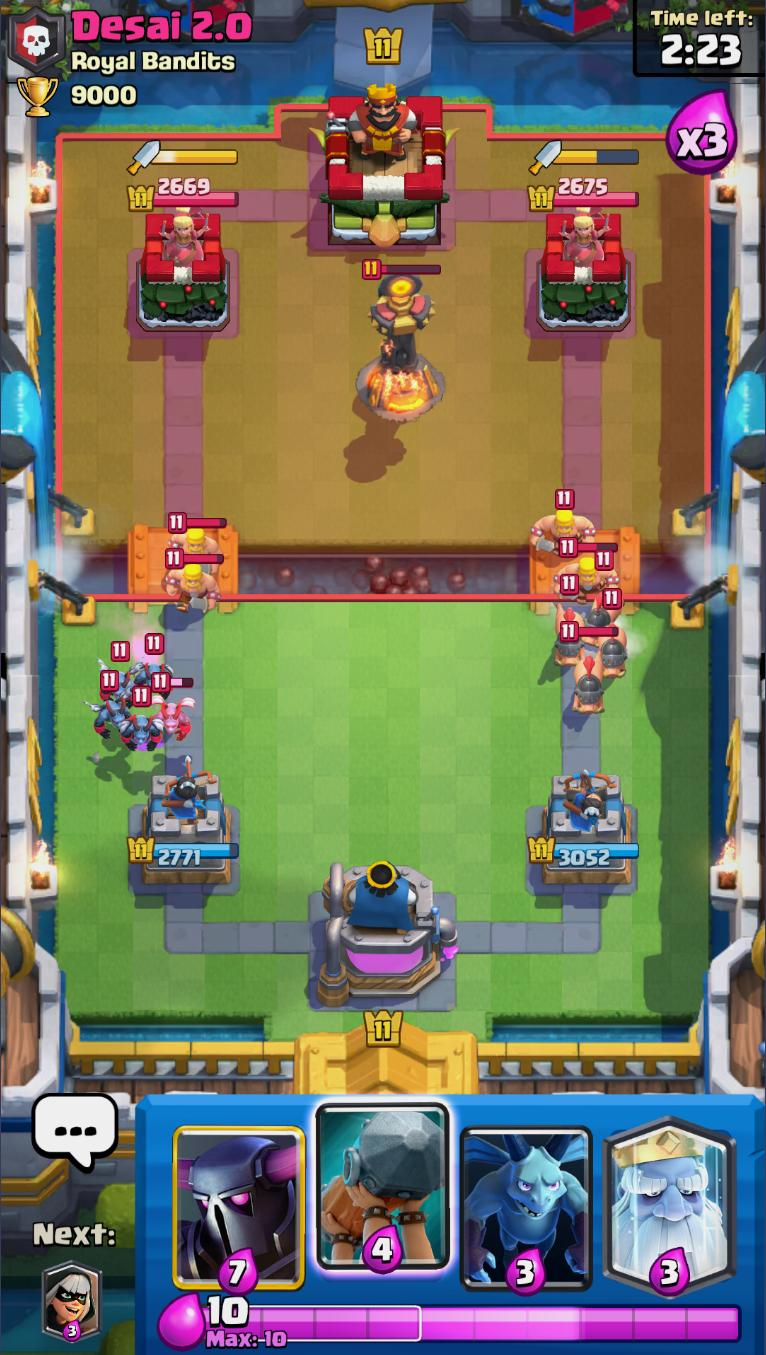BanditNext: (41, 1264, 103, 1343)
Barbarian: (161, 549, 227, 619), (530, 490, 600, 554), (559, 537, 619, 597), (164, 510, 229, 557)
BattleRamDeck: (313, 1099, 451, 1297)
DaggerDuchess: (157, 206, 210, 266), (557, 206, 611, 264)
Daggers: (126, 140, 240, 176), (531, 139, 640, 173)
Elixir: (203, 1294, 744, 1351)
EnemyTower: (136, 214, 234, 334), (539, 211, 633, 333)
Inferno: (353, 259, 449, 426)
KingTower: (320, 74, 451, 251)
Minion: (87, 669, 134, 740), (150, 670, 194, 741), (121, 687, 164, 754), (134, 633, 176, 696), (99, 640, 136, 707)
MinionsDeck: (454, 1096, 600, 1296)
MyKingTower: (314, 859, 460, 1011)
MyPrincessTower: (124, 770, 240, 893), (527, 771, 641, 889)
MyPrincessTowerHP: (126, 837, 240, 866), (526, 837, 640, 866)
PekkaDeck: (166, 1096, 311, 1294)
RoyaleGhostDeck: (597, 1094, 741, 1299)
RoyalePig: (559, 620, 619, 717), (553, 573, 589, 671), (584, 549, 626, 630), (599, 590, 629, 681)
TowerPrincessHP: (127, 174, 240, 210), (530, 176, 641, 210)
